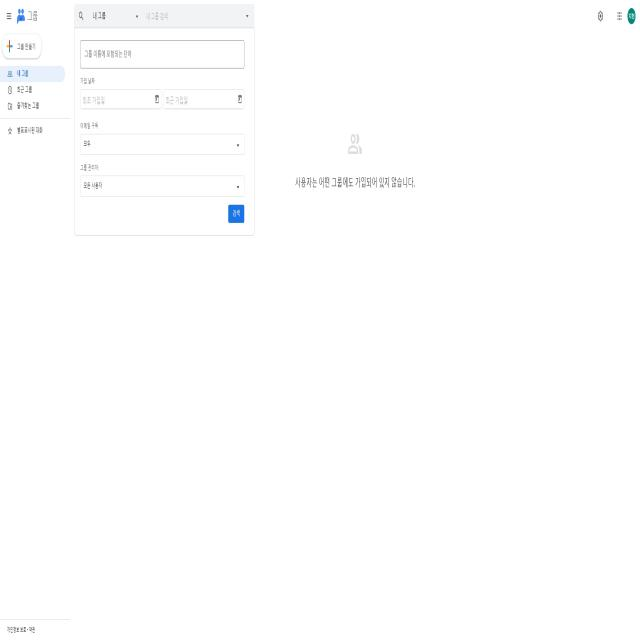menu-bar: (594, 3, 638, 28)
menu-panel: (3, 27, 69, 142)
search: (76, 4, 255, 26)
